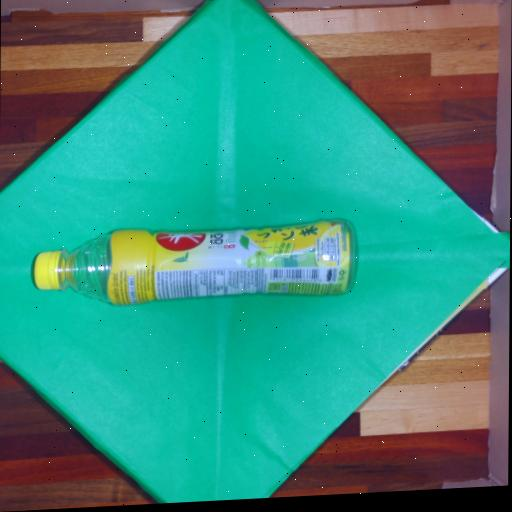bottle: (24, 195, 375, 337)
